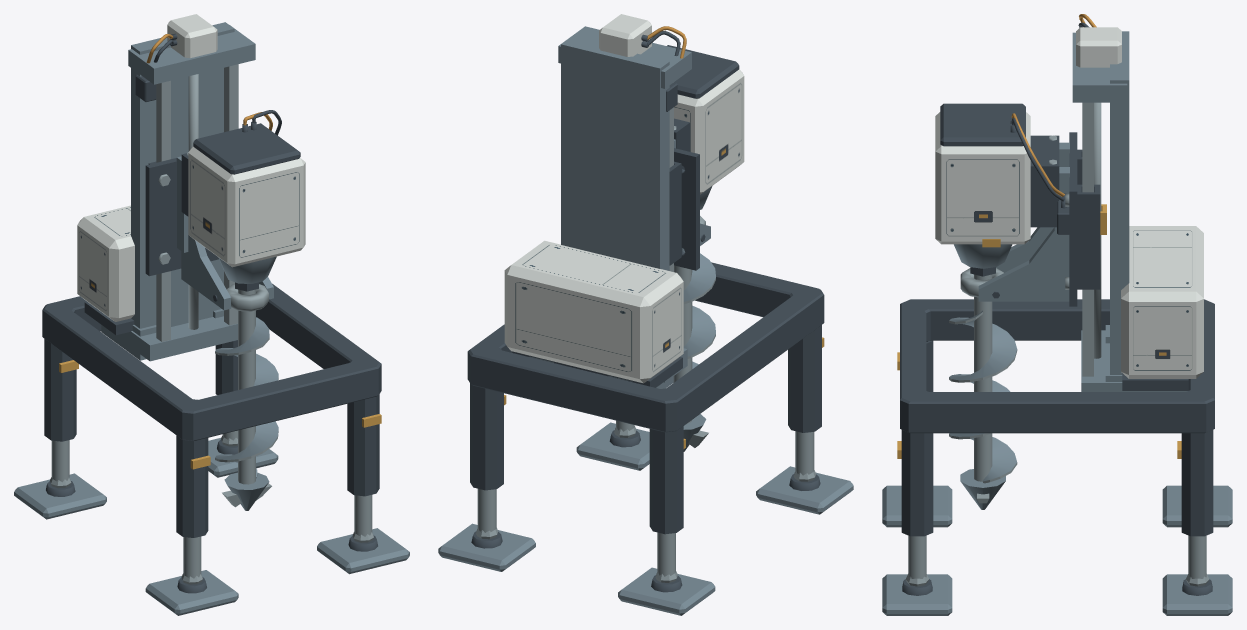
File: Research_Drill.glb
3 views of the same model, side by side, from view 1: azimuth 30°, elevation 25°; view 2: azimuth 150°, elevation 25°; view 3: azimuth 270°, elevation 25° (orthographic). The views are drawn at different scales.
Parts seen in each view (by area): view 1: Frame, Carriage, Auger_Rotating, Foot_FL, Foot_FR, Foot_RL, Foot_RR, Leg_FL, Leg_FR, Leg_RL; view 2: Frame, Carriage, Auger_Rotating, Foot_FL, Foot_RL, Foot_RR, Foot_FR, Leg_FL, Leg_RR, Leg_RL; view 3: Frame, Carriage, Auger_Rotating, Foot_FR, Foot_RR, Foot_FL, Foot_RL, Leg_FR, Leg_RR.
Boxes of the visible parts, x1,y1,x2,y2 form: Frame: (42, 14, 381, 537); Carriage: (145, 110, 305, 311); Auger_Rotating: (215, 282, 278, 510); Foot_FL: (145, 570, 238, 615); Foot_FR: (317, 528, 409, 574); Foot_RL: (14, 473, 106, 519); Foot_RR: (208, 438, 278, 477); Leg_FL: (181, 536, 202, 584); Leg_FR: (352, 495, 373, 542); Leg_RL: (50, 440, 71, 488); Frame: (467, 14, 824, 534); Carriage: (667, 45, 744, 270); Auger_Rotating: (673, 253, 715, 451); Foot_FL: (756, 466, 853, 514); Foot_RL: (618, 567, 715, 615); Foot_RR: (438, 523, 535, 571); Foot_FR: (576, 422, 649, 470); Leg_FL: (793, 431, 815, 481); Leg_RR: (476, 488, 498, 539); Leg_RL: (655, 532, 677, 582); Frame: (897, 14, 1214, 536); Carriage: (935, 103, 1106, 306); Auger_Rotating: (949, 267, 1017, 509); Foot_FR: (882, 574, 952, 615); Foot_RR: (1162, 574, 1232, 615); Foot_FL: (882, 485, 952, 527); Foot_RL: (1162, 485, 1232, 527); Leg_FR: (905, 535, 928, 586); Leg_RR: (1186, 535, 1209, 586).
Size of the model in its own units: 0.66 by 1.32 by 0.8.
Materials: 1 (1 with a texture image).
